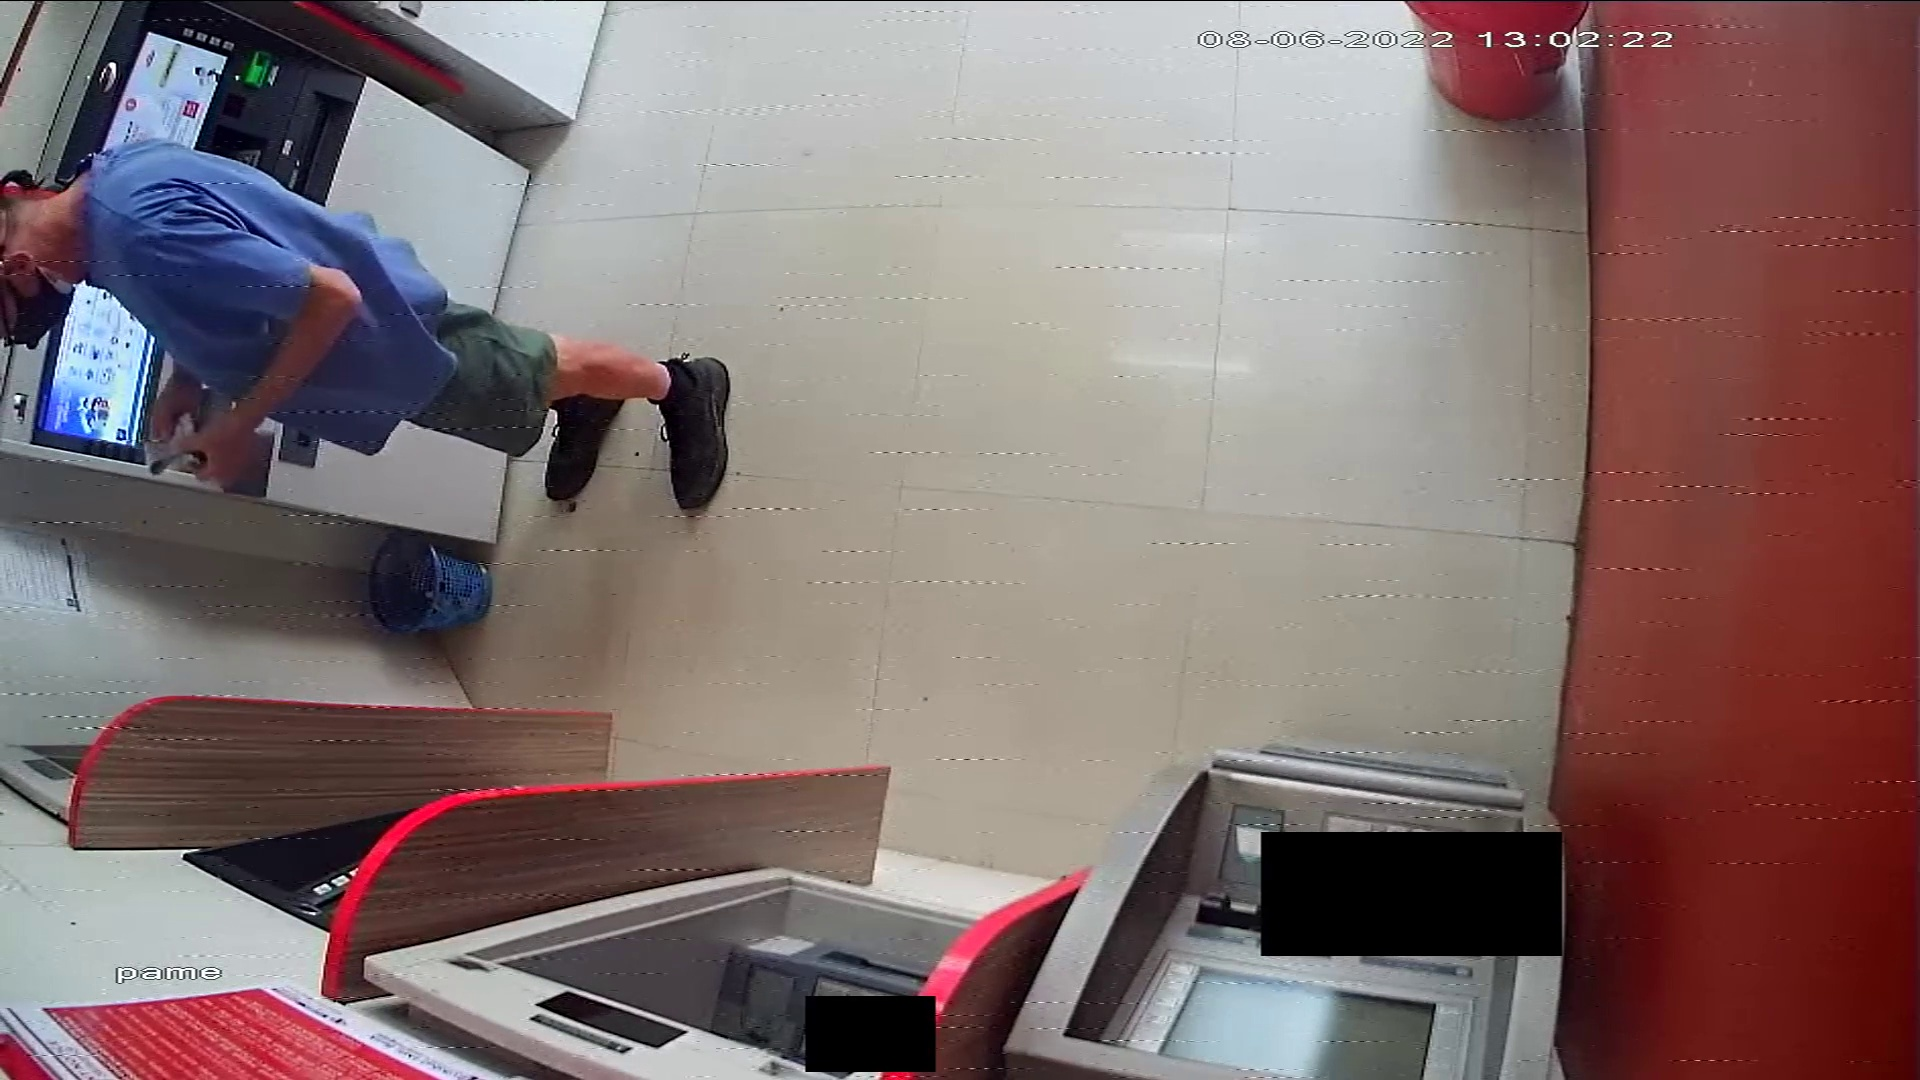person: (2, 136, 737, 521)
